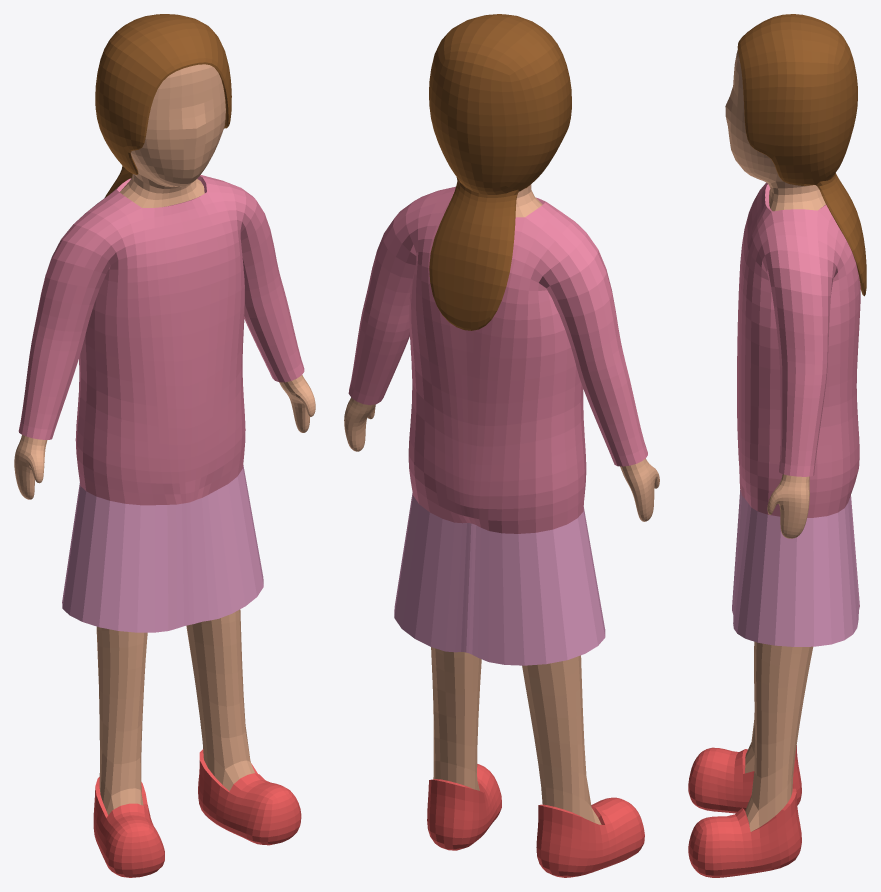
Rendered from Girl.fbx.
3 renders of one model, left to right at view 1: azimuth 30°, elevation 25°; view 2: azimuth 150°, elevation 25°; view 3: azimuth 270°, elevation 25°, orthographic. The views are drawn at different scales.
Visible parts, largest first — view 1: Cube.002, Cube.003, Cube.004, Cube.001; view 2: Cube.002, Cube.001, Cube.003, Cube.004; view 3: Cube.002, Cube.003, Cube.001, Cube.004.
Part boxes in pixels (left/top/right/bottom): Cube.002: left=18, top=175, right=304, bottom=505; Cube.003: left=14, top=64, right=315, bottom=877; Cube.004: left=62, top=465, right=263, bottom=632; Cube.001: left=95, top=14, right=231, bottom=197; Cube.002: left=348, top=186, right=647, bottom=533; Cube.001: left=429, top=14, right=571, bottom=330; Cube.003: left=344, top=184, right=659, bottom=877; Cube.004: left=394, top=493, right=605, bottom=665; Cube.002: left=737, top=182, right=860, bottom=517; Cube.003: left=688, top=49, right=825, bottom=877; Cube.001: left=737, top=14, right=866, bottom=296; Cube.004: left=732, top=490, right=859, bottom=646.
Size of the model in its own units: 387 by 1033 by 205.
